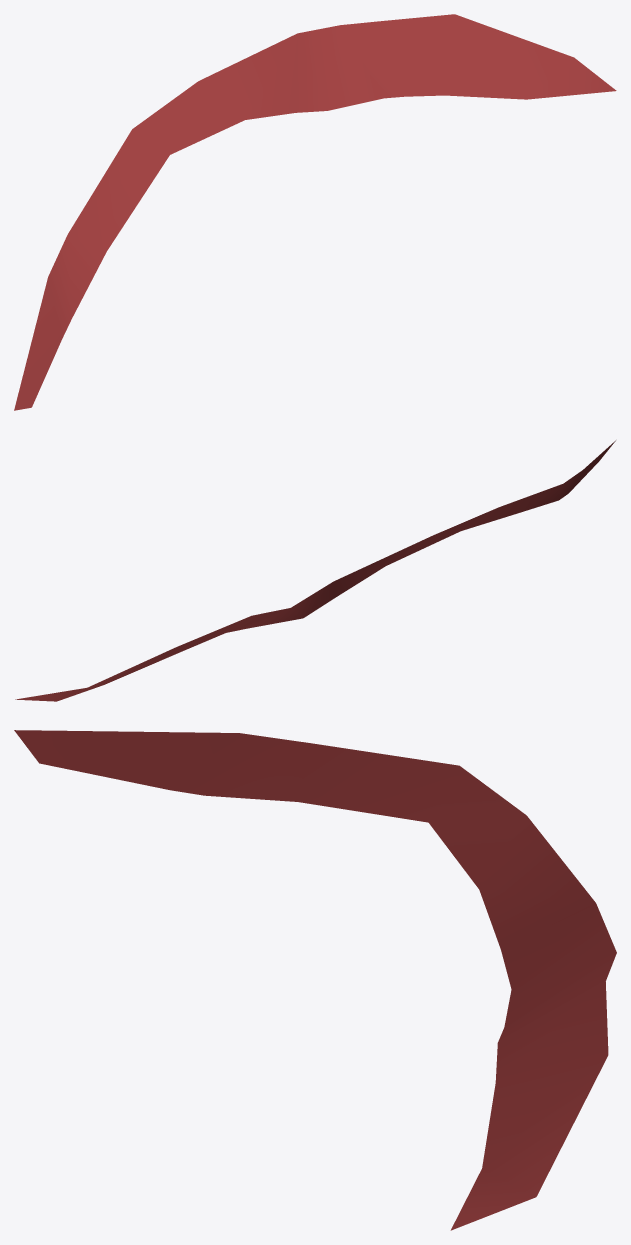
The model's file is ascending-part-of-trapezius-muscle-er.glb.
3 renders of one model, top to bottom at view 1: azimuth 30°, elevation 25°; view 2: azimuth 210°, elevation 25°; view 3: azimuth 270°, elevation 25°, orthographic. The views are drawn at different scales.
Visible parts, largest first — view 1: Ascending part of trapezius muscle.er; view 2: Ascending part of trapezius muscle.er; view 3: Ascending part of trapezius muscle.er.
Part boxes in pixels (<box>): Ascending part of trapezius muscle.er: <box>14,14,616,410</box>; Ascending part of trapezius muscle.er: <box>15,440,615,701</box>; Ascending part of trapezius muscle.er: <box>14,730,616,1230</box>.
Size of the model in its own units: 0.0387 by 0.00627 by 0.0181.
